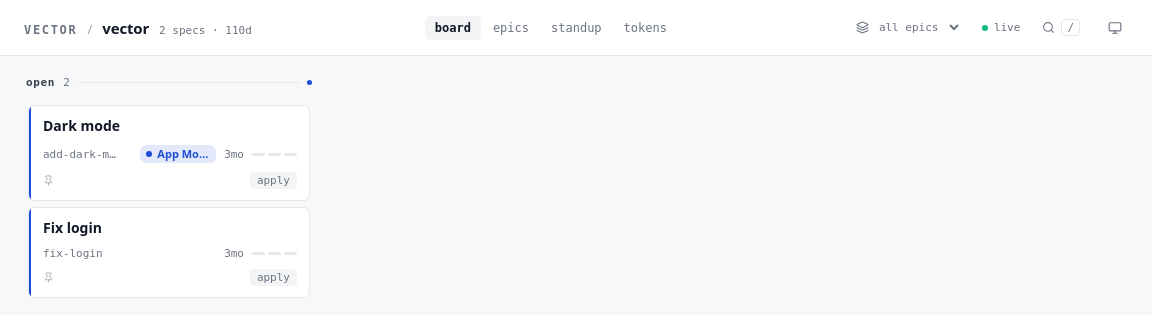
Test: App epic filter and epics view › reaches the epics tab from the header and applies its filter back on the board
Step 1. Click the button "epics" → (511,28), box x1=483 y1=16 x2=539 y2=40
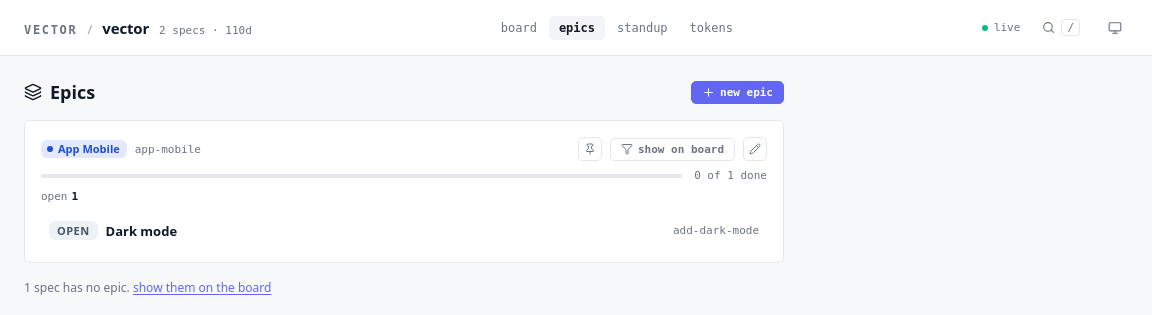
Now the element named "Epic App Mobile" is shown, box x1=24 y1=120 x2=784 y2=263
Step 2. Click the button "show on board" → (672,149), box x1=610 y1=138 x2=735 y2=160
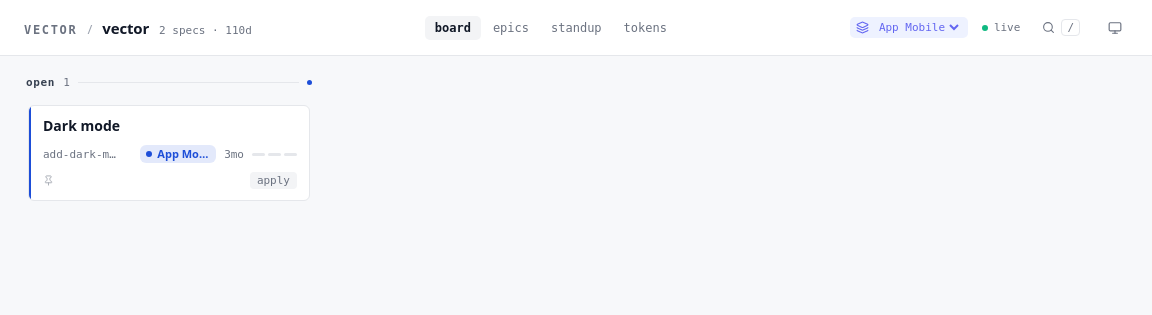
Now the button with aria-label "Open details for Dark mode" is shown, box x1=28 y1=105 x2=310 y2=201
Now the dropdown named "Filter the board by epic" shows "App Mobile", box x1=875 y1=20 x2=962 y2=35
